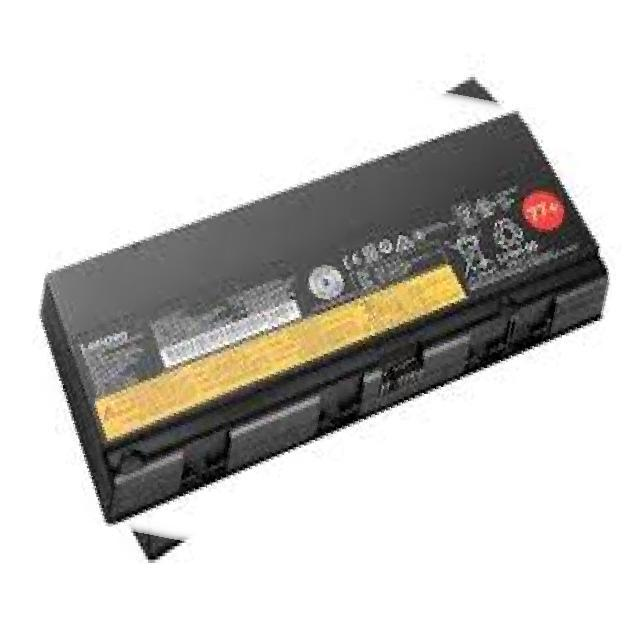Battery: (19, 102, 640, 524)
